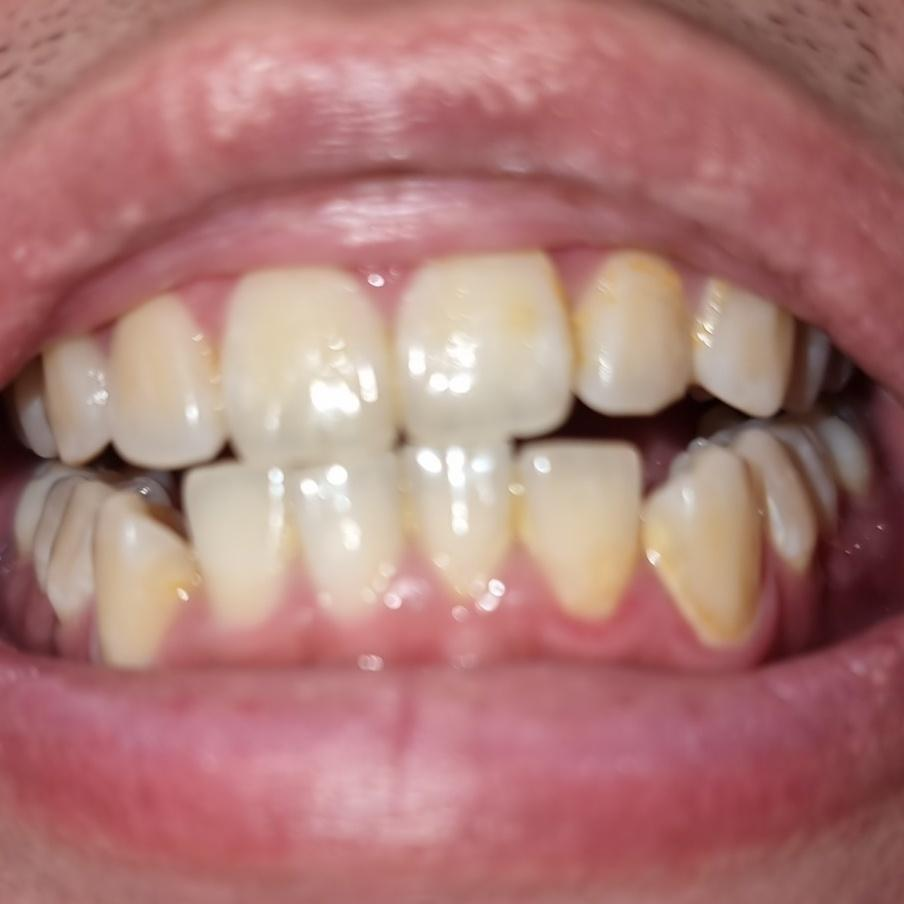Healthy: (221, 261, 576, 443), (577, 246, 796, 423), (651, 423, 848, 619), (40, 304, 228, 464)
